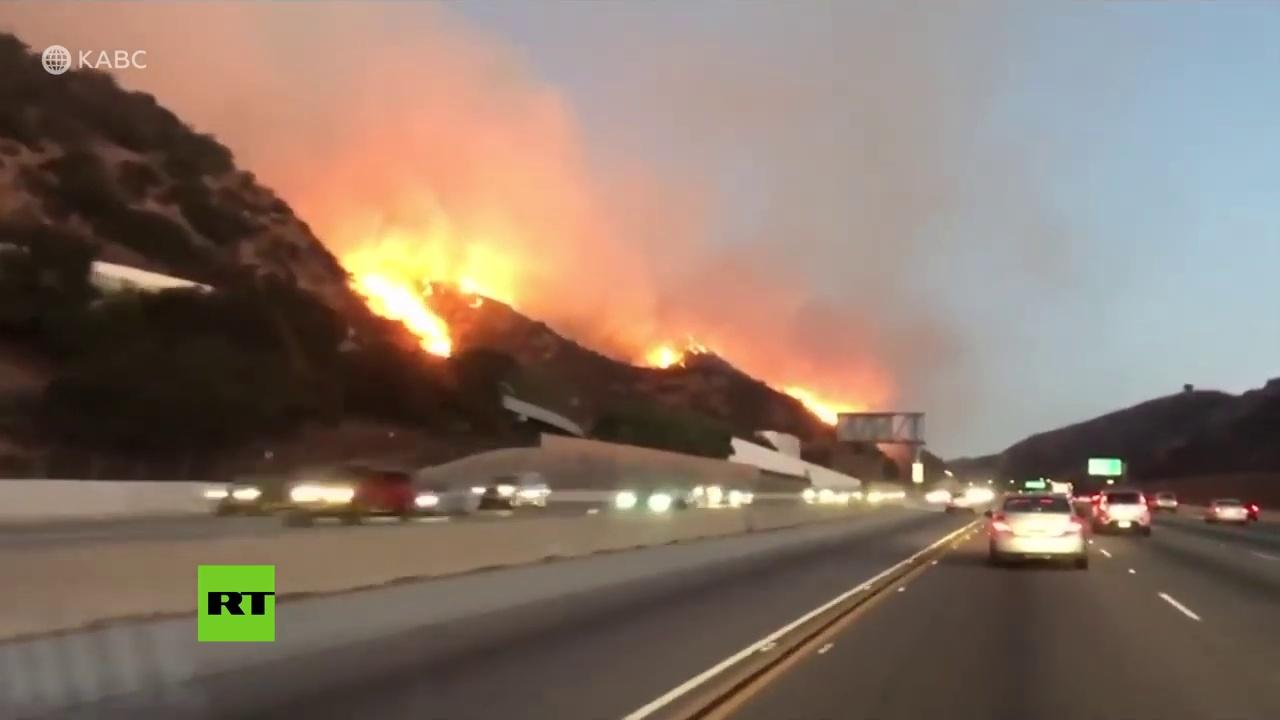Fire: (339, 235, 514, 354), (784, 380, 863, 427), (650, 342, 686, 369)
